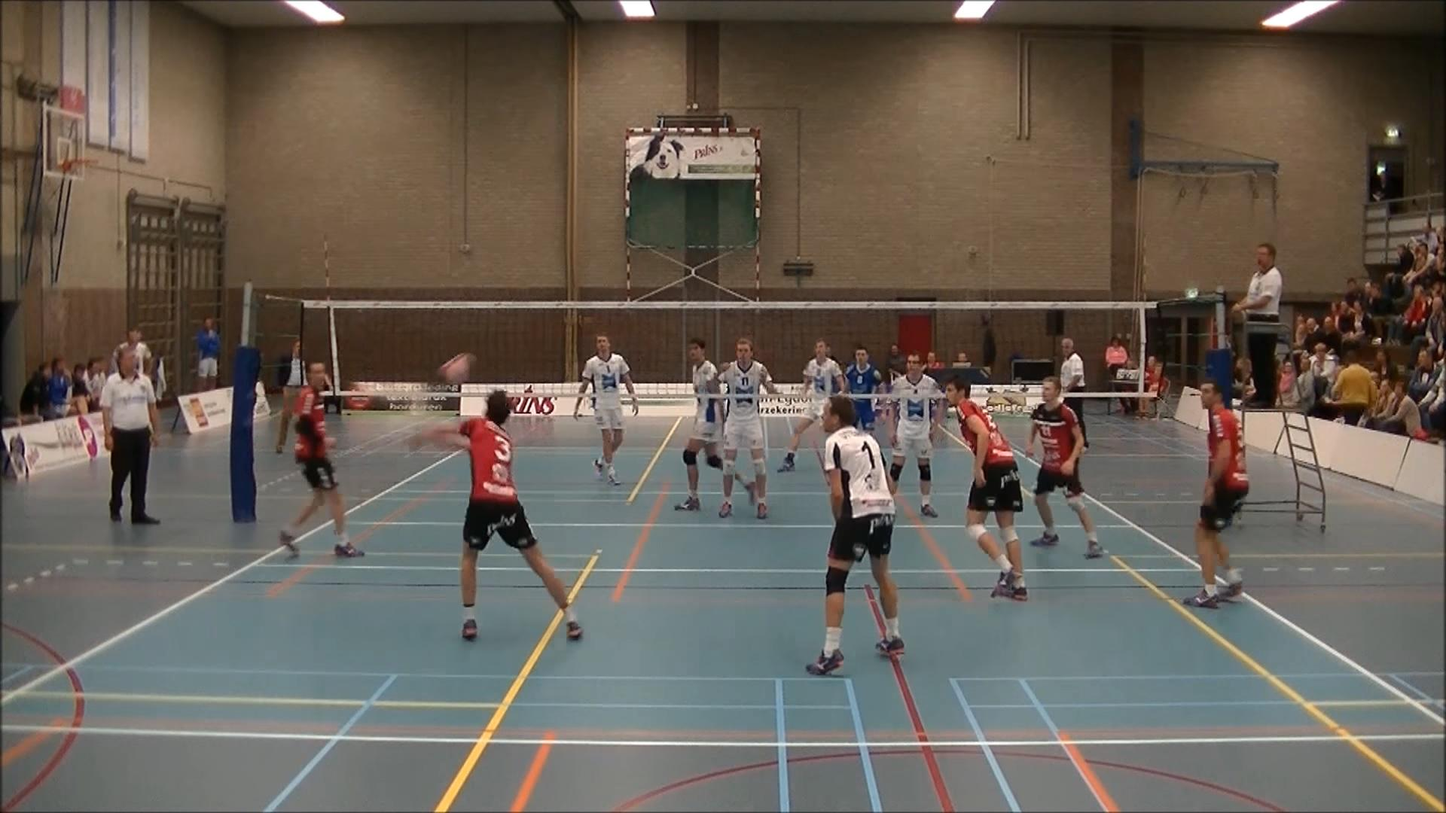ricezione: (366, 388, 584, 646)
